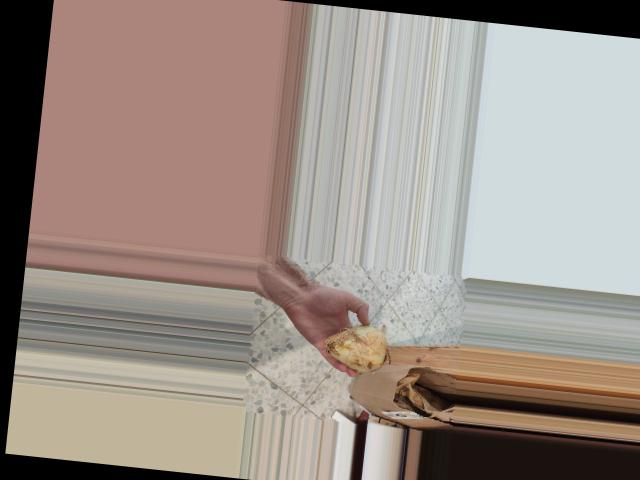onion: (319, 320, 395, 375)
